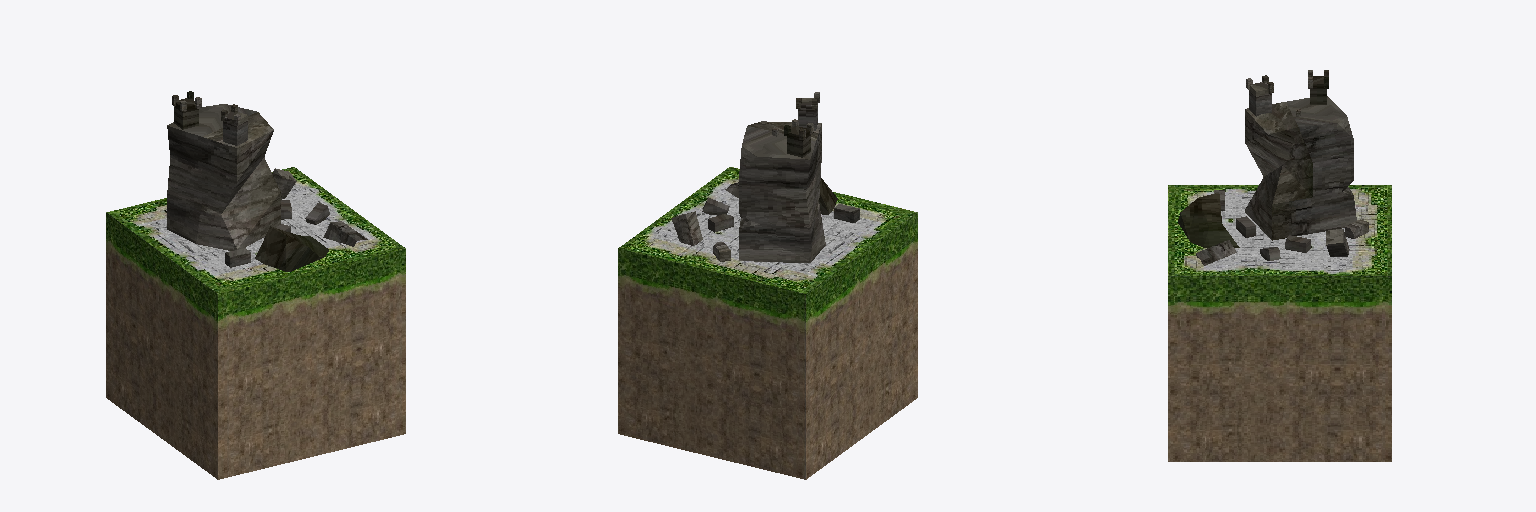
3 renders of one model, left to right at view 1: azimuth 30°, elevation 25°; view 2: azimuth 150°, elevation 25°; view 3: azimuth 270°, elevation 25°, orthographic.
Visible parts, largest first — view 1: group pasted__polySurface157 polySurface1; view 2: group pasted__polySurface157 polySurface1; view 3: group pasted__polySurface157 polySurface1.
Part boxes in pixels (left/top/right/bottom): group pasted__polySurface157 polySurface1: left=106, top=91, right=405, bottom=479; group pasted__polySurface157 polySurface1: left=618, top=92, right=917, bottom=479; group pasted__polySurface157 polySurface1: left=1168, top=70, right=1391, bottom=461.
Size of the model in its own units: 9.36 by 15.24 by 9.66.
Materials: 1 (1 with a texture image).